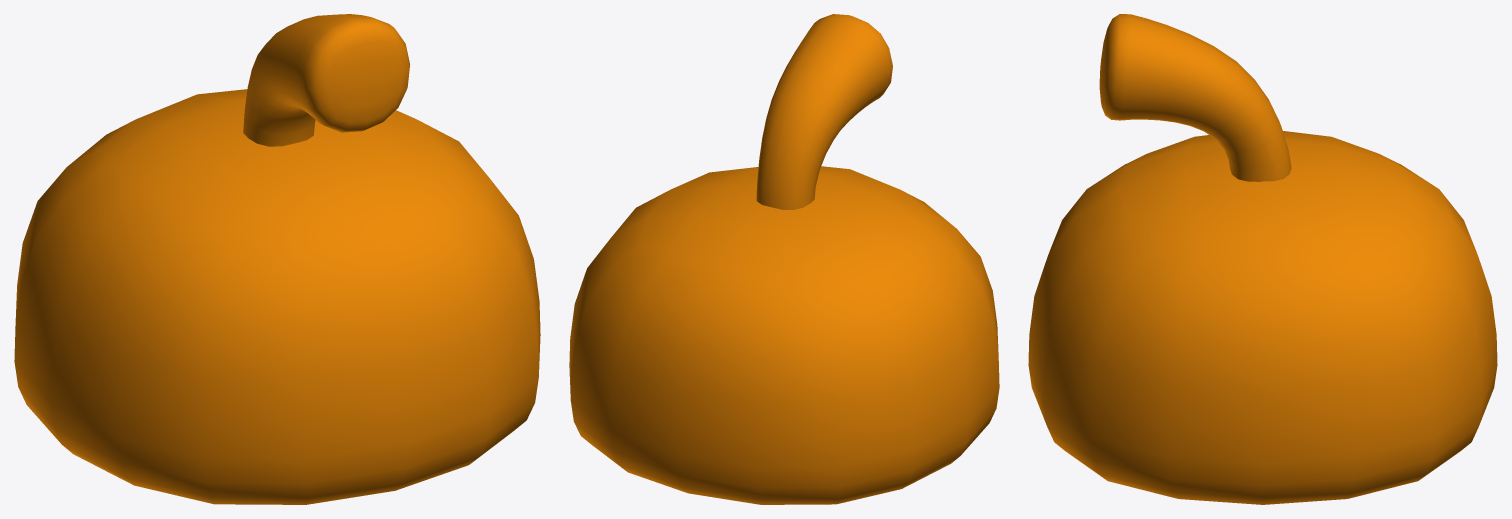
File: AcornHat.fbx
3 views of the same model, side by side, from view 1: azimuth 30°, elevation 25°; view 2: azimuth 150°, elevation 25°; view 3: azimuth 270°, elevation 25° (orthographic). The views are drawn at different scales.
Parts seen in each view (by area): view 1: AcornHat2, AcornHat3; view 2: AcornHat2, AcornHat3; view 3: AcornHat2, AcornHat3.
Boxes of the visible parts, x1,y1,x2,y2 form: AcornHat2: [14, 89, 540, 504]; AcornHat3: [243, 14, 409, 146]; AcornHat2: [569, 166, 999, 504]; AcornHat3: [756, 14, 892, 209]; AcornHat2: [1028, 131, 1497, 504]; AcornHat3: [1099, 14, 1291, 181].
Bounding box in the file's own units: 1.95 × 1.85 × 1.95.
